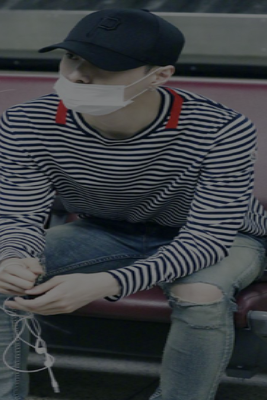mask_weared_incorrect: (58, 52, 144, 115)
